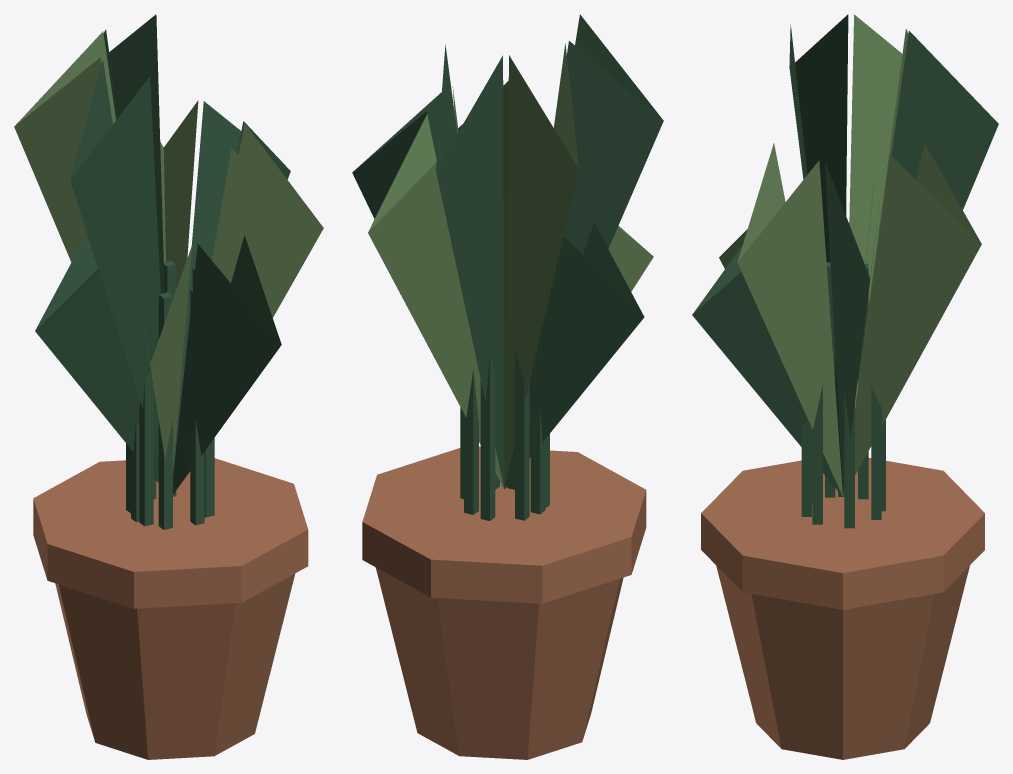
Rendered from LP_PlantEast.fbx.
The picture shows the model from 3 angles, left to right: view 1: azimuth 30°, elevation 25°; view 2: azimuth 150°, elevation 25°; view 3: azimuth 270°, elevation 25°; orthographic projection. The views are drawn at different scales.
Parts seen in each view (by area): view 1: Terracotta, LeafForest, LeafSage; view 2: Terracotta, LeafForest, LeafSage; view 3: Terracotta, LeafSage, LeafForest.
Part boxes in pixels (x1,y1,x2,y2): Terracotta: [33, 458, 308, 759]; LeafForest: [35, 14, 290, 529]; LeafSage: [14, 31, 323, 469]; Terracotta: [362, 446, 646, 759]; LeafForest: [352, 14, 663, 520]; LeafSage: [368, 43, 653, 488]; Terracotta: [701, 457, 984, 759]; LeafSage: [719, 14, 981, 496]; LeafForest: [692, 14, 998, 528].
Bounding box in the file's own units: 53.59 × 129 × 52.97.
